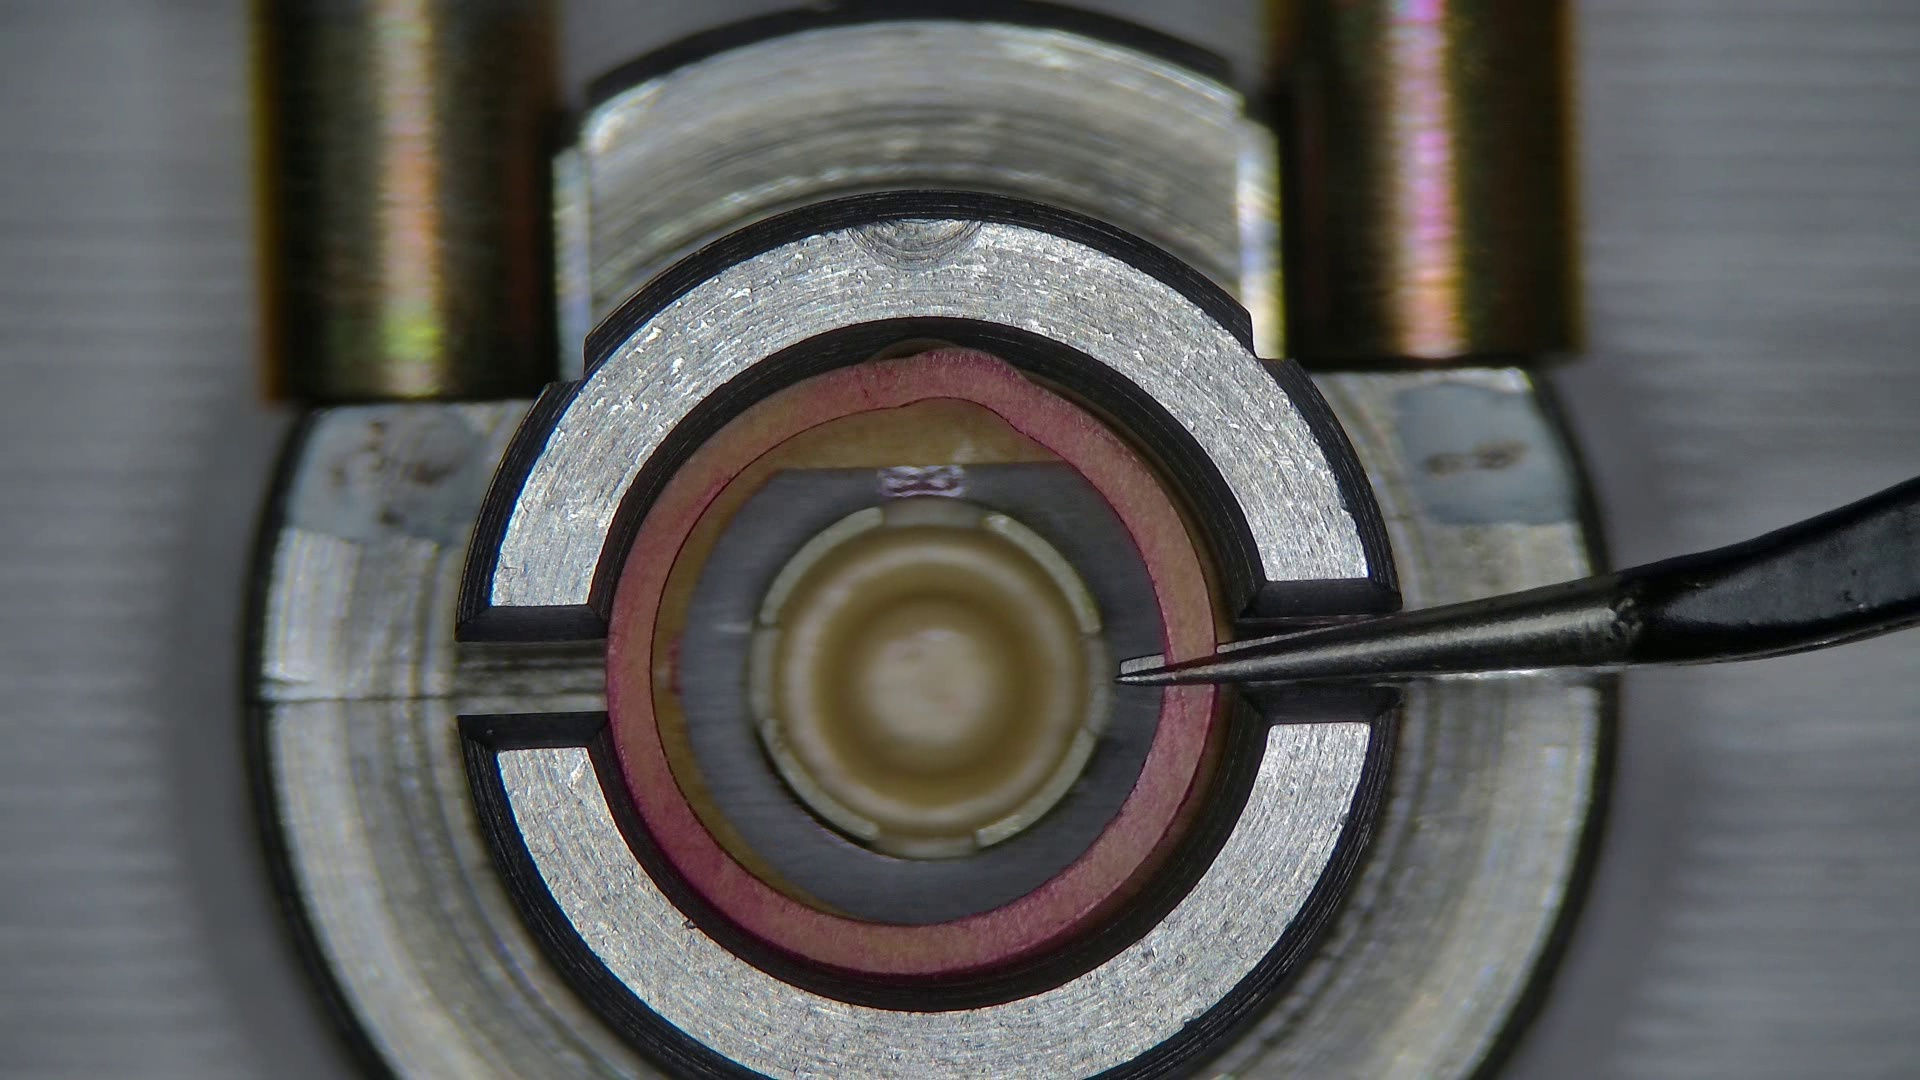GreyOring: (608, 349, 1218, 975)
YellowOring: (680, 463, 1162, 923)
redOring: (647, 396, 1058, 893)
